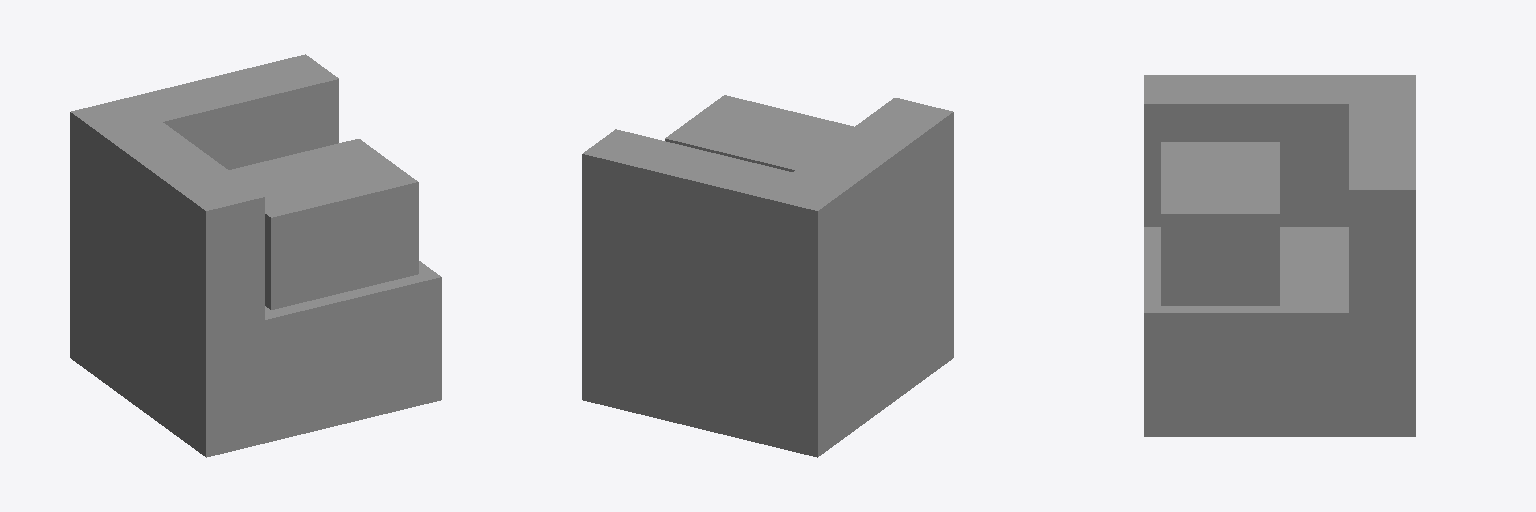
Rendered from grindstone.obj.
The picture shows the model from 3 angles: view 1: azimuth 30°, elevation 25°; view 2: azimuth 150°, elevation 25°; view 3: azimuth 270°, elevation 25°; orthographic projection.
Parts seen in each view (by area): view 1: Cube; view 2: Cube; view 3: Cube.
Boxes of the visible parts, x1=… form: Cube: x1=70, y1=54, x2=441, y2=457; Cube: x1=582, y1=95, x2=953, y2=457; Cube: x1=1144, y1=75, x2=1415, y2=436.
Bounding box in the file's own units: 1 × 1 × 1.